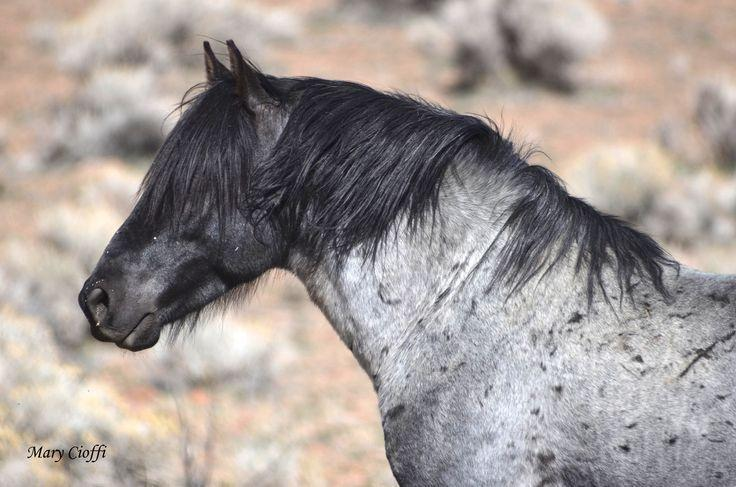horse: (77, 36, 735, 486)
